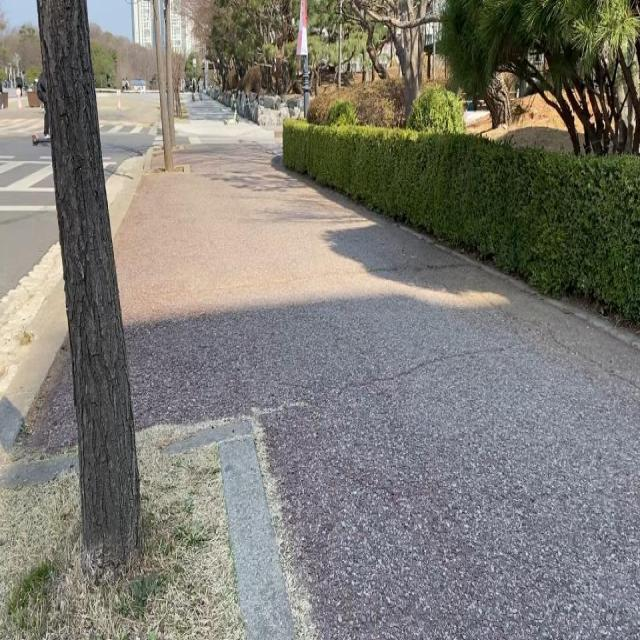sidewalk: (115, 143, 640, 638)
